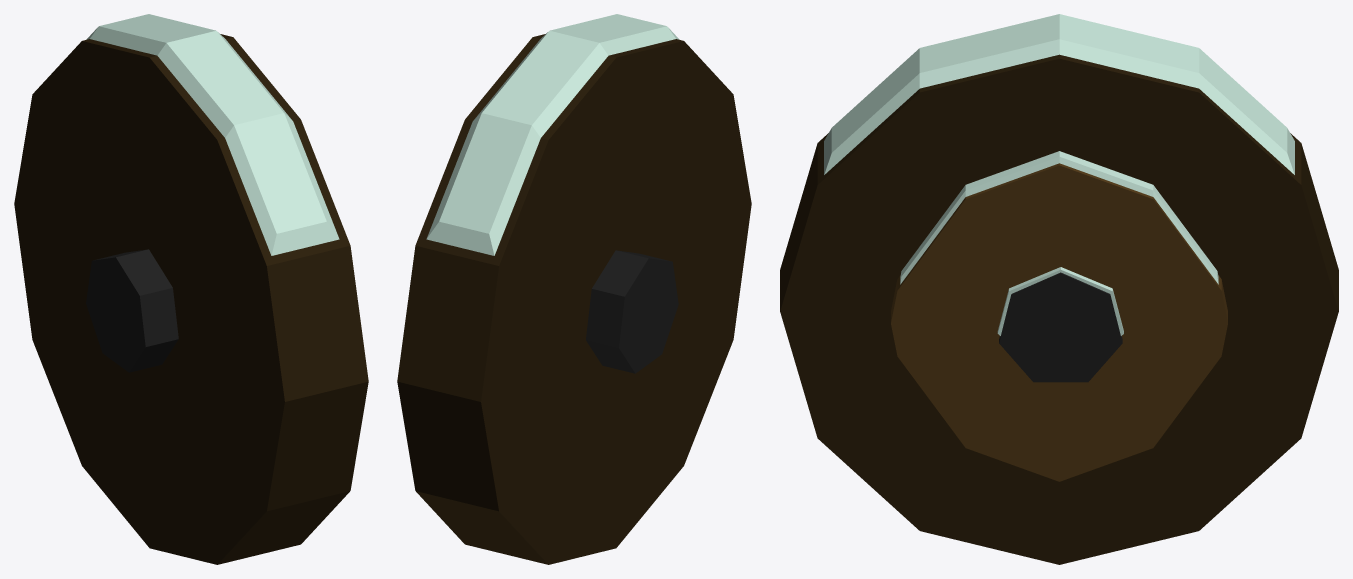
The model's file is winter-catapult-wheel-v2.glb.
The picture shows the model from 3 angles, left to right: view 1: azimuth 30°, elevation 25°; view 2: azimuth 150°, elevation 25°; view 3: azimuth 270°, elevation 25°; orthographic projection. The views are drawn at different scales.
Parts seen in each view (by area): view 1: WinterCatapultWheel_v2; view 2: WinterCatapultWheel_v2; view 3: WinterCatapultWheel_v2.
Part boxes in pixels (x1,y1,x2,y2): WinterCatapultWheel_v2: [14, 14, 368, 564]; WinterCatapultWheel_v2: [397, 14, 751, 564]; WinterCatapultWheel_v2: [780, 14, 1338, 564].
Size of the model in its own units: 26.66 by 85.41 by 83.6.
1 material, 1 textured.
